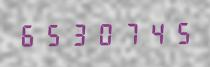five: (167, 18, 191, 45), (42, 21, 66, 47)
four: (142, 19, 166, 45)
seven: (117, 19, 141, 46)
six: (17, 21, 41, 48)
three: (67, 20, 91, 47)
zero: (92, 20, 116, 46)
